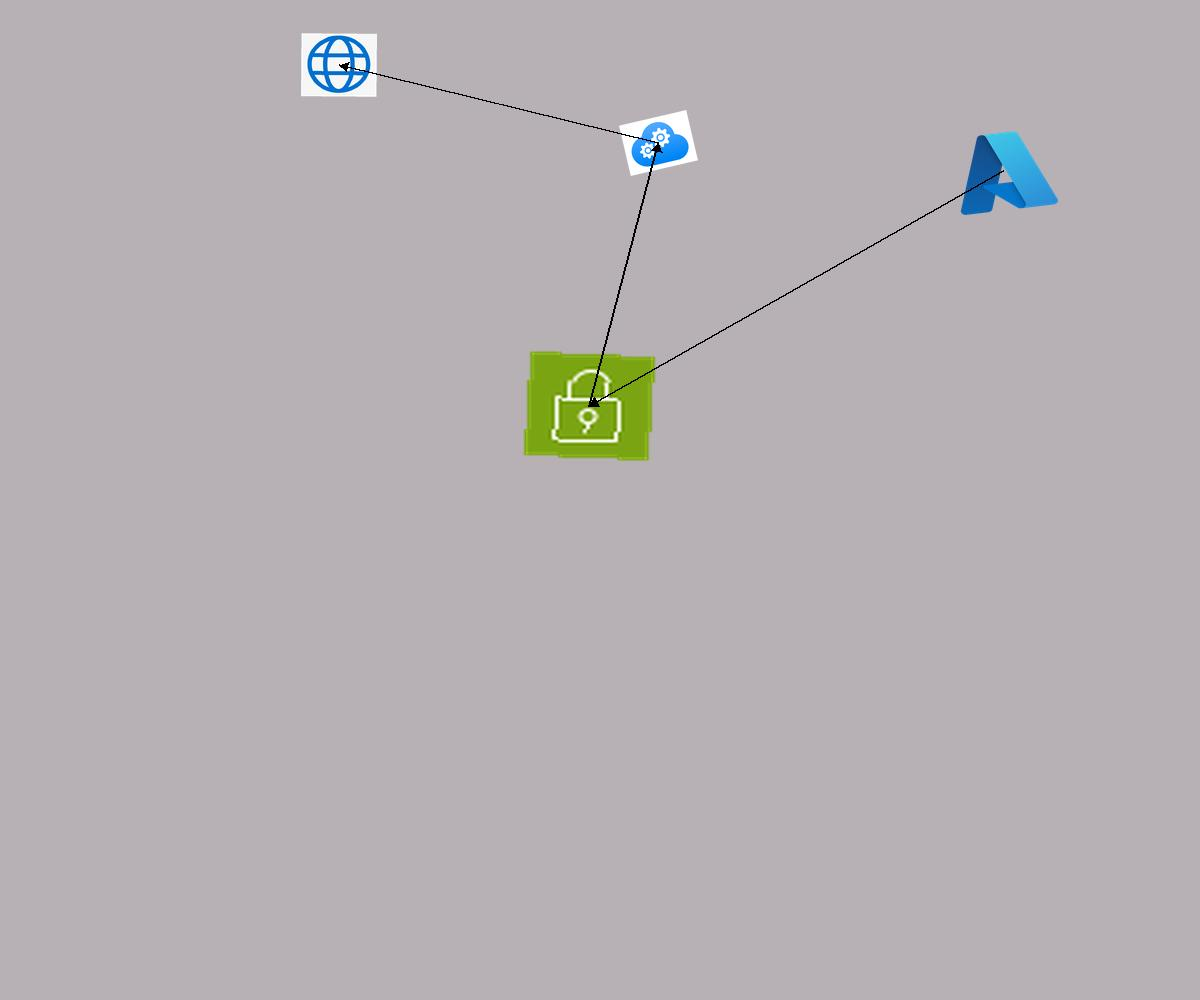AWS-Public-subnet: (521, 349, 658, 463)
Azure_cloud_services: (619, 110, 698, 176)
Azure_http: (301, 33, 377, 97)
Azure_services: (943, 121, 1064, 222)
